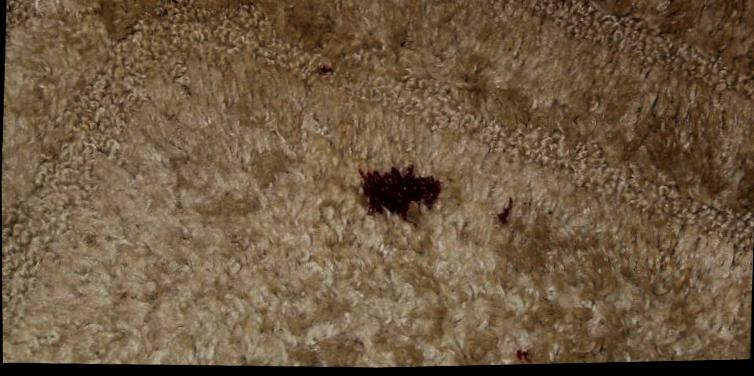Fire: (358, 166, 441, 228), (496, 199, 513, 225), (516, 352, 532, 365), (319, 66, 333, 74)
